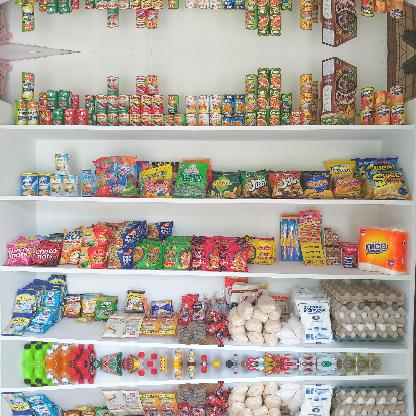Koko-Krunch: (320, 56, 356, 124), (319, 0, 357, 49)
